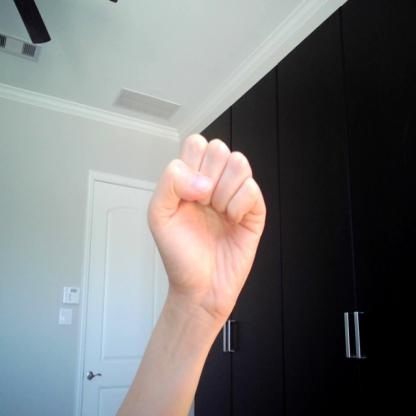S: (148, 130, 268, 325)
